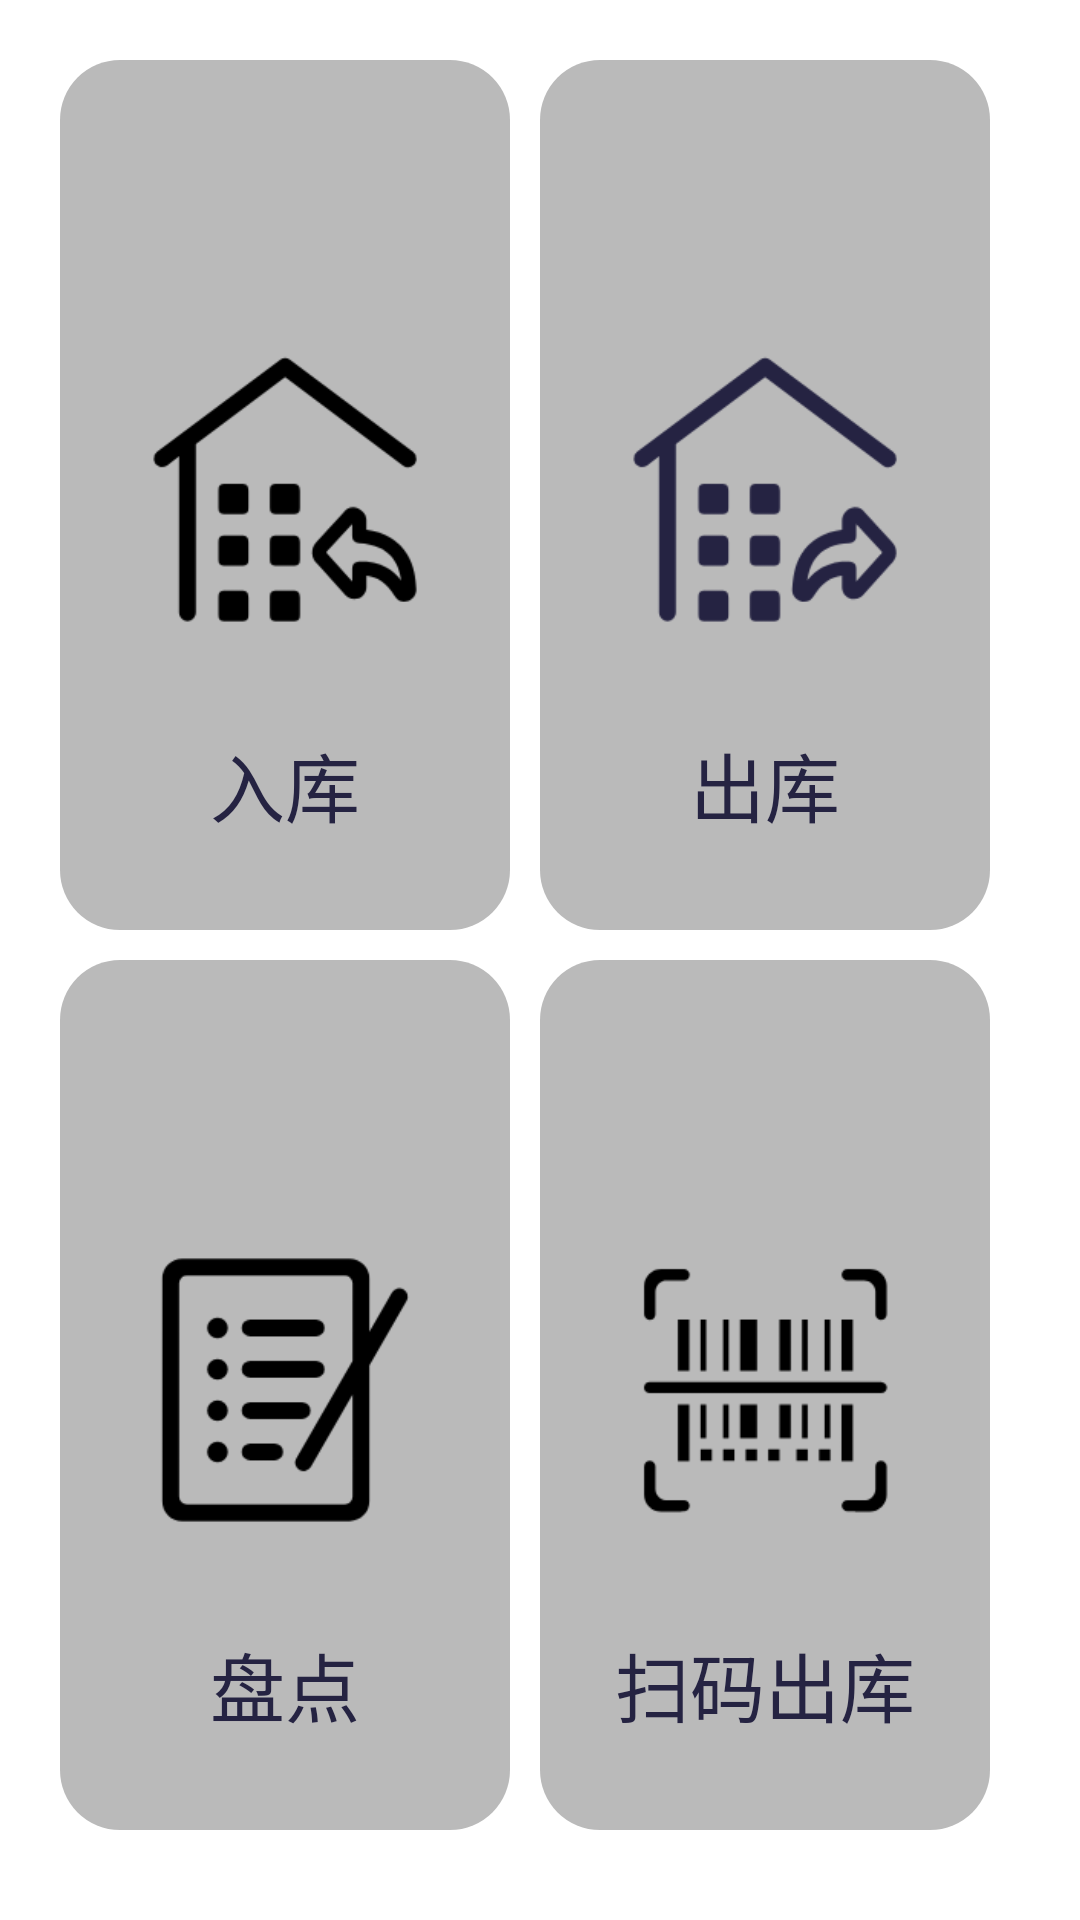

Where to tap for icons on this 1080×1920 app screen, as (x,y):
store count: (285,1390)
store in: (285,489)
store out: (765,489)
store scan: (766,1391)
